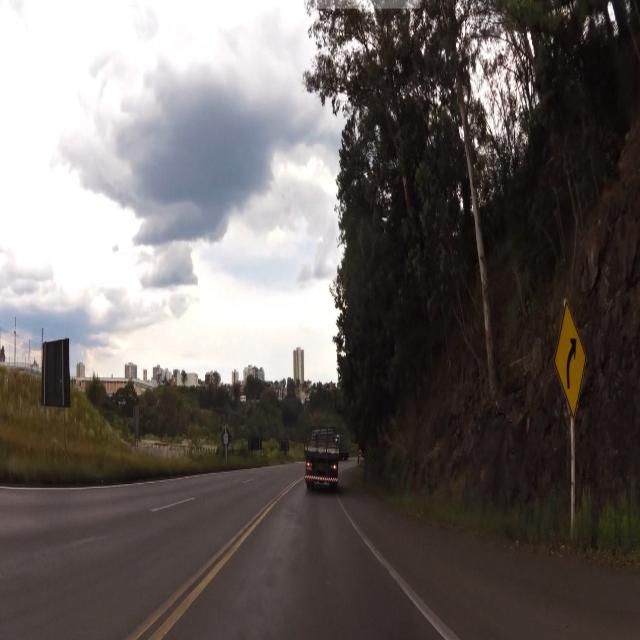A-2b: (555, 304, 591, 415)
